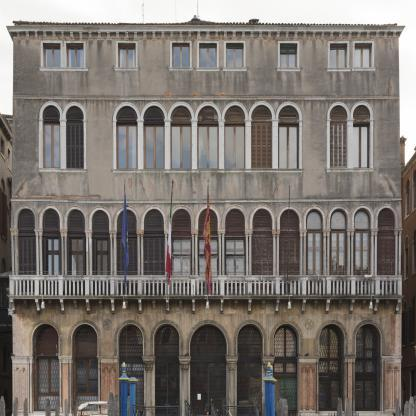Balcony: (8, 275, 403, 300)
Blind: (144, 230, 165, 284), (117, 230, 138, 284), (279, 230, 300, 282), (252, 230, 273, 282), (251, 121, 272, 169), (65, 121, 84, 169), (330, 121, 347, 168)
Building Outline: (6, 15, 406, 416)
Door: (190, 358, 226, 416), (273, 359, 298, 416), (237, 359, 262, 416), (155, 359, 180, 416), (377, 228, 396, 295), (354, 228, 371, 295), (18, 229, 36, 292), (306, 230, 323, 296), (330, 229, 347, 295)
Facade: (12, 31, 401, 416)
Floor: (12, 189, 400, 299), (12, 86, 400, 189)
Floor Slab: (13, 295, 402, 300), (12, 184, 400, 189), (14, 82, 400, 87)
Ground Floor: (12, 299, 400, 416)
Molding: (9, 31, 403, 38)
Pillar: (296, 356, 321, 416), (97, 356, 121, 416), (380, 356, 403, 416), (260, 356, 276, 416), (58, 356, 73, 416), (141, 356, 156, 416), (178, 356, 192, 416), (225, 356, 239, 416), (343, 356, 357, 416), (298, 229, 308, 275), (271, 229, 281, 275), (9, 228, 19, 274), (34, 229, 44, 275), (394, 228, 403, 275), (370, 228, 379, 275), (346, 228, 355, 275), (322, 229, 331, 275), (244, 229, 253, 275), (217, 229, 226, 275), (190, 229, 199, 275), (163, 229, 172, 275), (109, 230, 118, 276), (136, 230, 145, 275), (84, 230, 93, 275), (59, 230, 68, 275)
Sill: (112, 168, 305, 173), (37, 167, 87, 173), (325, 167, 376, 172), (39, 67, 90, 71), (326, 67, 352, 72), (351, 67, 377, 71), (113, 67, 139, 71), (168, 67, 194, 71), (195, 67, 221, 71), (222, 67, 248, 71), (276, 67, 302, 71)
Top Floor: (14, 32, 400, 87)
Window: (119, 359, 144, 415), (34, 358, 60, 411), (73, 358, 98, 411), (355, 359, 380, 411), (319, 359, 344, 411), (225, 237, 246, 296), (198, 237, 218, 296), (190, 326, 226, 358), (117, 230, 138, 284), (144, 230, 165, 284), (252, 230, 273, 282), (279, 230, 300, 282), (171, 237, 192, 287), (117, 121, 138, 169), (279, 121, 300, 169), (251, 121, 272, 169), (225, 121, 246, 169), (198, 121, 219, 169), (171, 121, 192, 169), (144, 121, 165, 169), (67, 237, 86, 286), (65, 121, 84, 169), (355, 324, 380, 359), (43, 237, 61, 285), (154, 326, 180, 359), (237, 325, 262, 359), (319, 325, 344, 359), (353, 121, 371, 168), (42, 121, 60, 168), (93, 238, 111, 285), (34, 325, 59, 358), (73, 325, 98, 358), (119, 326, 144, 359), (273, 325, 298, 358), (330, 121, 347, 168), (197, 208, 218, 230), (225, 208, 245, 230), (252, 208, 272, 230), (66, 43, 84, 67), (172, 43, 190, 67), (199, 43, 217, 67), (226, 43, 244, 67), (116, 210, 137, 230), (144, 209, 164, 230), (171, 209, 191, 230), (280, 209, 300, 230), (355, 43, 372, 67), (43, 43, 60, 67), (118, 43, 135, 67), (280, 43, 297, 67), (330, 43, 347, 67), (42, 208, 60, 230), (67, 209, 85, 230), (17, 209, 35, 229), (91, 210, 109, 230), (330, 209, 348, 229), (354, 208, 372, 228), (378, 208, 395, 228), (306, 209, 323, 229), (278, 105, 300, 119), (224, 105, 246, 119), (65, 105, 84, 121), (251, 105, 272, 119), (116, 106, 138, 119), (143, 106, 165, 119), (170, 106, 192, 119), (197, 106, 219, 119), (42, 105, 60, 120), (353, 105, 371, 119), (330, 105, 348, 119)
dont: (73, 361, 139, 416), (262, 361, 288, 416), (131, 404, 180, 416), (223, 403, 259, 416), (204, 398, 219, 416), (391, 398, 403, 416), (336, 397, 343, 416), (345, 398, 352, 416), (13, 397, 19, 416), (45, 398, 51, 416), (55, 398, 61, 416), (23, 398, 28, 416), (64, 398, 69, 416)
